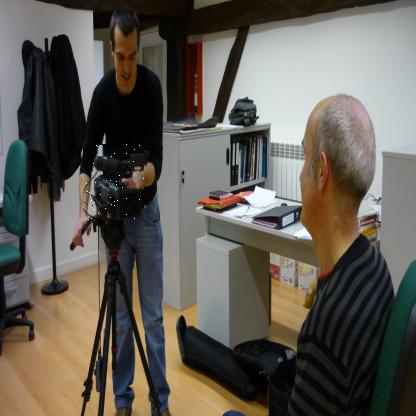Camera: (85, 146, 149, 222)
